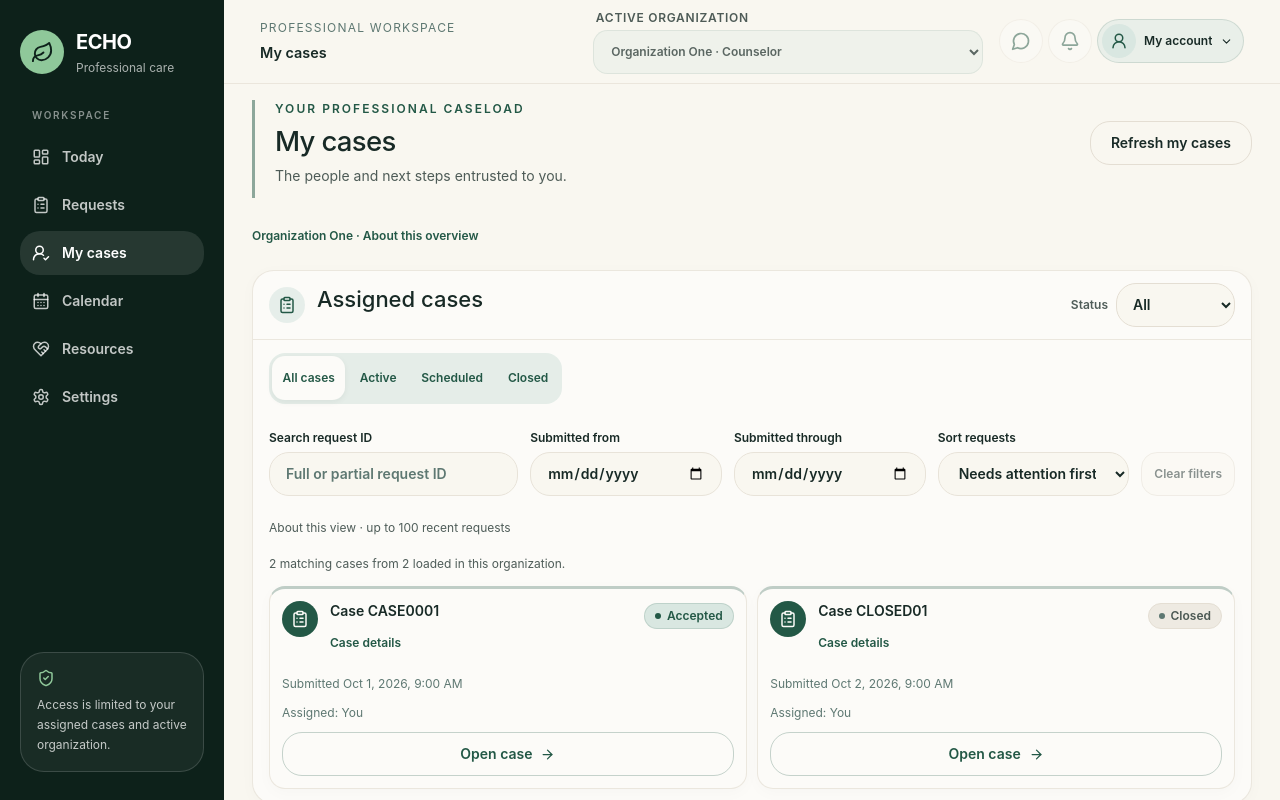
Test: FE-012 My Cases › clears displayed cases when a scoped refresh loses authorization
Expected: the heading "Case CASE0001" is shown, x1=330 y1=601 x2=439 y2=621
Click the button "Refresh my cases".
click(1171, 143)  # box x1=1090 y1=121 x2=1252 y2=165
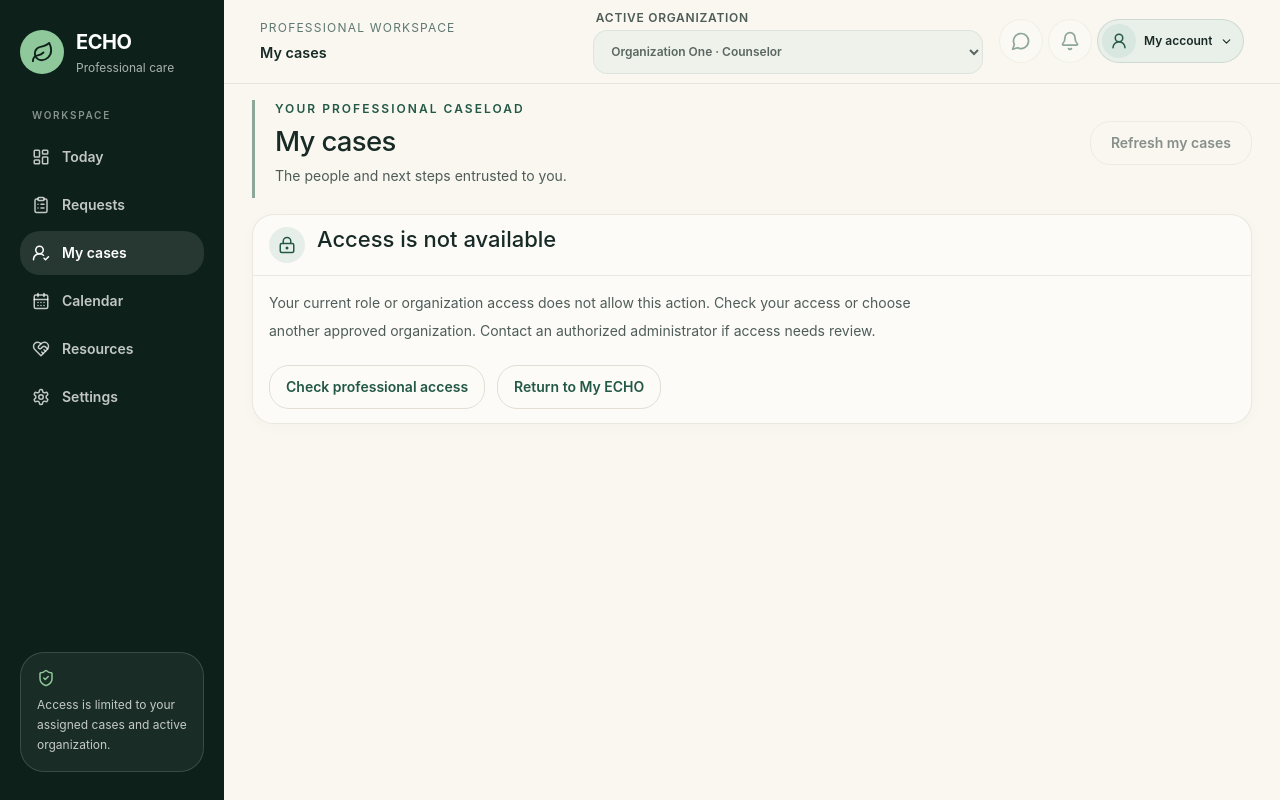
Expected: the heading "Case CASE0001" is gone
Expected: the heading "Access is not available" is shown, x1=317 y1=227 x2=556 y2=252
